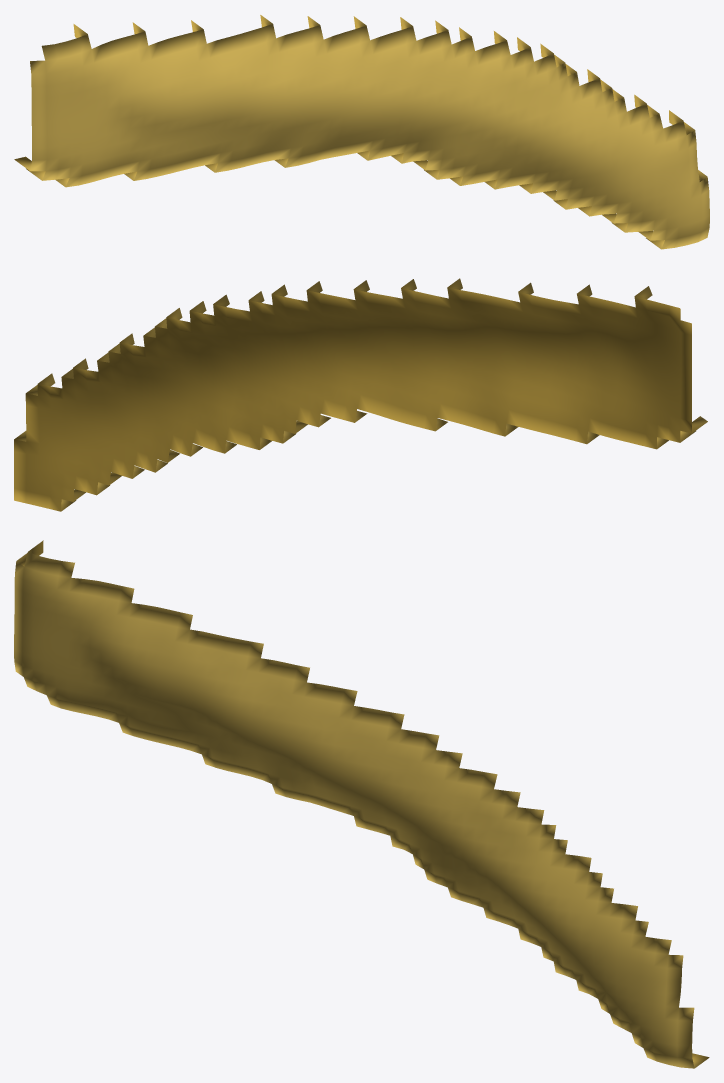
Rendered from PAIR-TOE-CREST_RIGHT_addon.glb.
The picture shows the model from 3 angles, top to bottom: view 1: azimuth 30°, elevation 25°; view 2: azimuth 150°, elevation 25°; view 3: azimuth 330°, elevation 25°; orthographic projection.
Visible parts, largest first — view 1: geometry_0; view 2: geometry_0; view 3: geometry_0.
Part boxes in pixels (bbox=[...]): geometry_0: bbox=[14, 15, 709, 249]; geometry_0: bbox=[14, 278, 707, 511]; geometry_0: bbox=[14, 540, 709, 1068].
Size of the model in its own units: 58 by 29 by 4.
